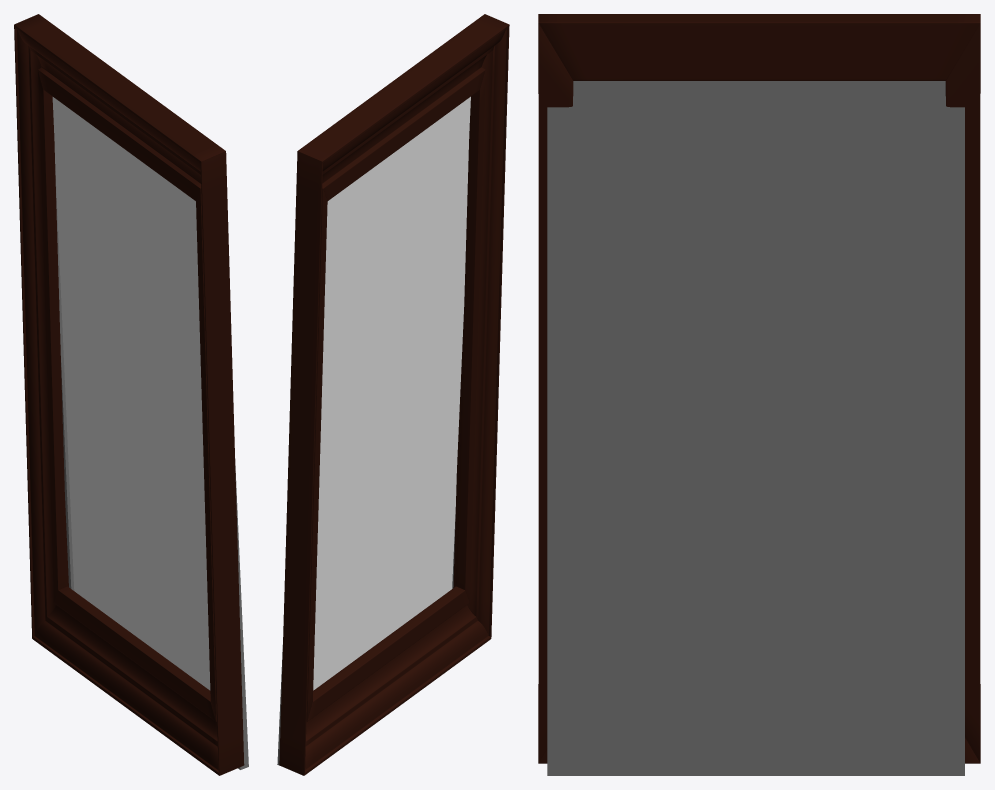
Rendered from CUADRO CUADRADO 1.fbx.
3 views of the same model, side by side, from view 1: azimuth 30°, elevation 25°; view 2: azimuth 150°, elevation 25°; view 3: azimuth 270°, elevation 25° (orthographic). The views are drawn at different scales.
Visible parts, largest first — view 1: Mesh; view 2: Mesh; view 3: Mesh.
Part boxes in pixels (<box>): Mesh: <box>14,14,248,775</box>; Mesh: <box>277,14,509,775</box>; Mesh: <box>538,14,980,775</box>.
Bounding box in the file's own units: 3.61 × 41.93 × 22.73.
